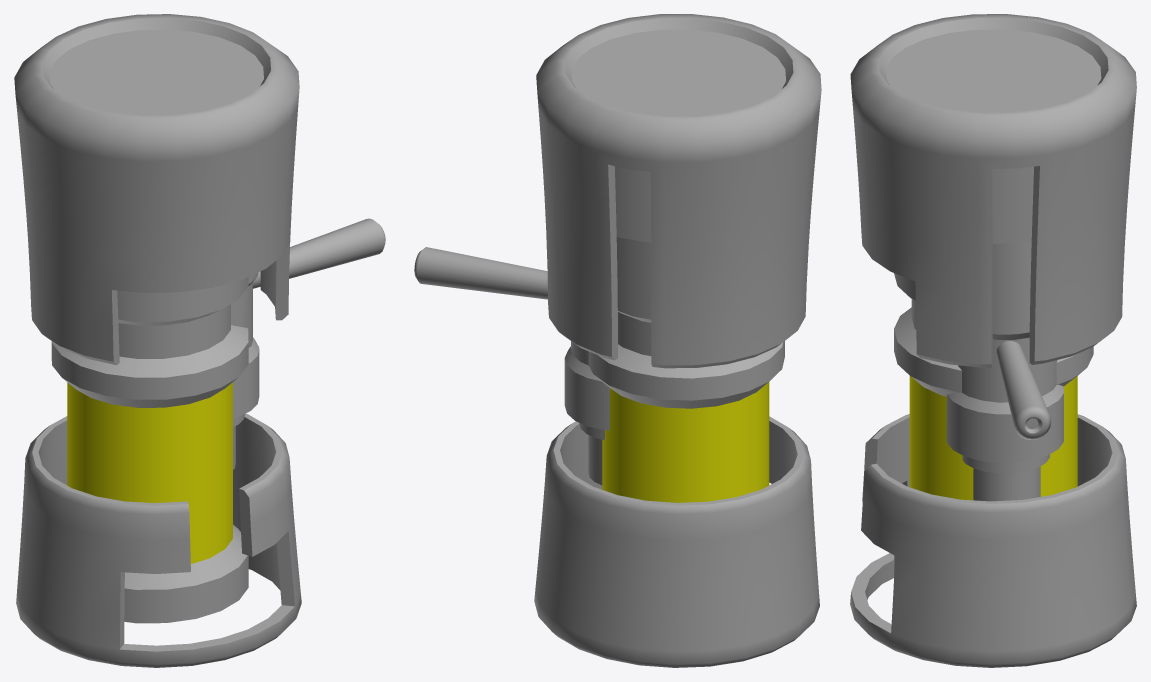
File: SM_CoffeeMachineFinal_01.fbx
The picture shows the model from 3 angles, left to right: view 1: azimuth 30°, elevation 25°; view 2: azimuth 150°, elevation 25°; view 3: azimuth 270°, elevation 25°; orthographic projection.
Parts seen in each view (by area): view 1: CoffeeMachineBody, CoffeeMachineShooter; view 2: CoffeeMachineBody, CoffeeMachineShooter; view 3: CoffeeMachineBody, CoffeeMachineShooter.
Part boxes in pixels (x1,y1,x2,y2): CoffeeMachineBody: [14, 14, 301, 667]; CoffeeMachineShooter: [51, 218, 385, 623]; CoffeeMachineBody: [534, 14, 821, 667]; CoffeeMachineShooter: [414, 237, 784, 502]; CoffeeMachineBody: [850, 14, 1136, 667]; CoffeeMachineShooter: [894, 241, 1093, 575].
Size of the model in its own units: 35.8 by 51.16 by 24.27.
